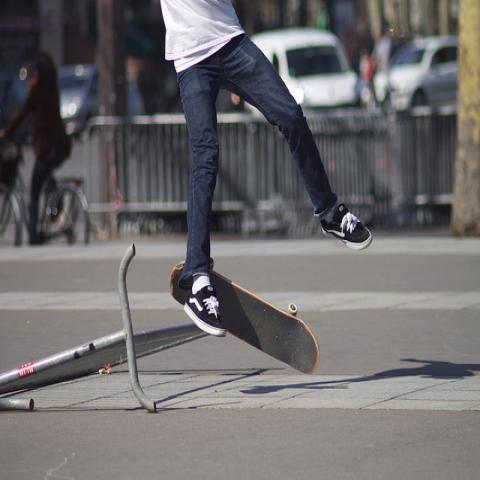car: (235, 28, 365, 118), (374, 31, 460, 111), (58, 63, 144, 140)
